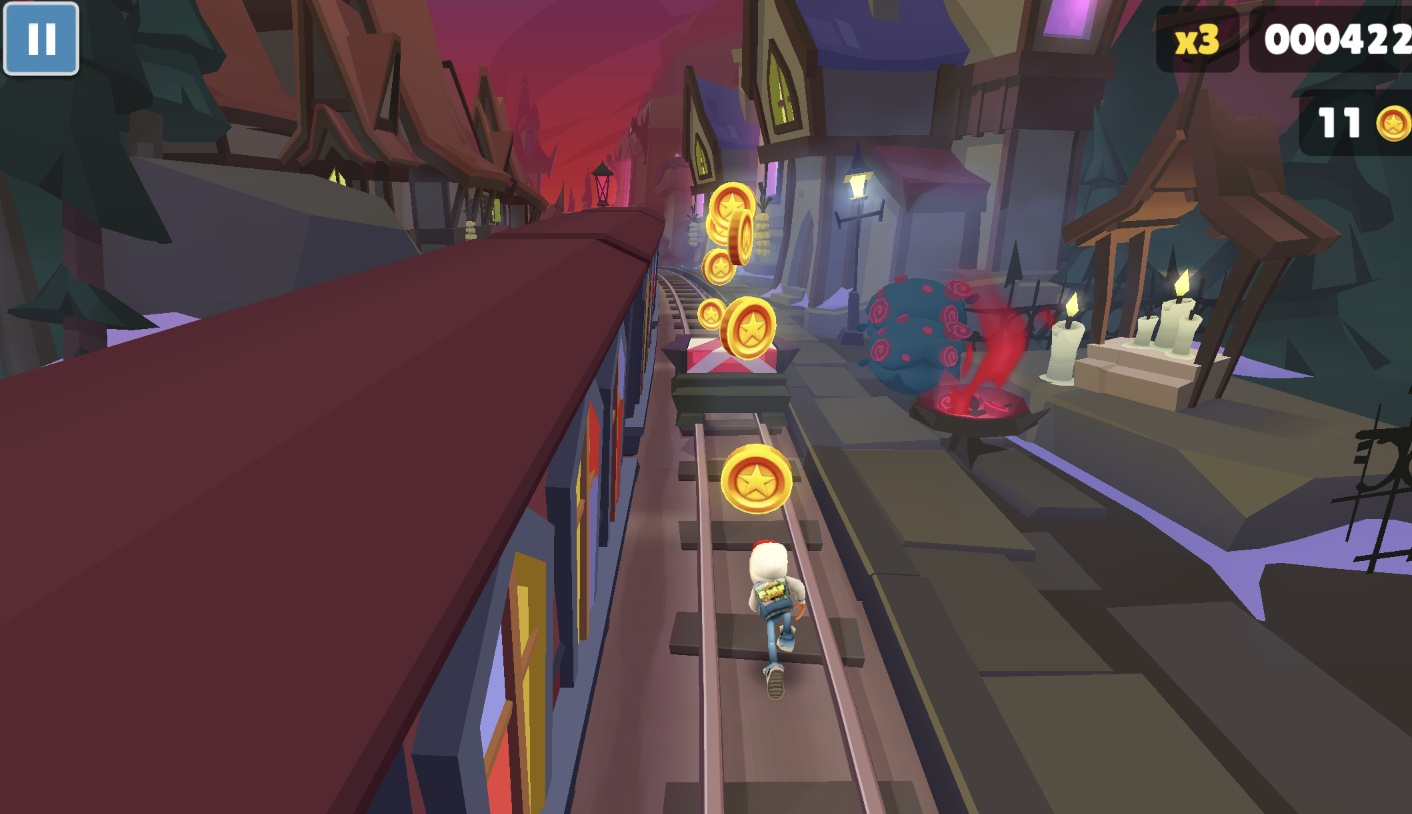ground_barrier: (658, 340, 788, 438)
train: (0, 208, 667, 814)
